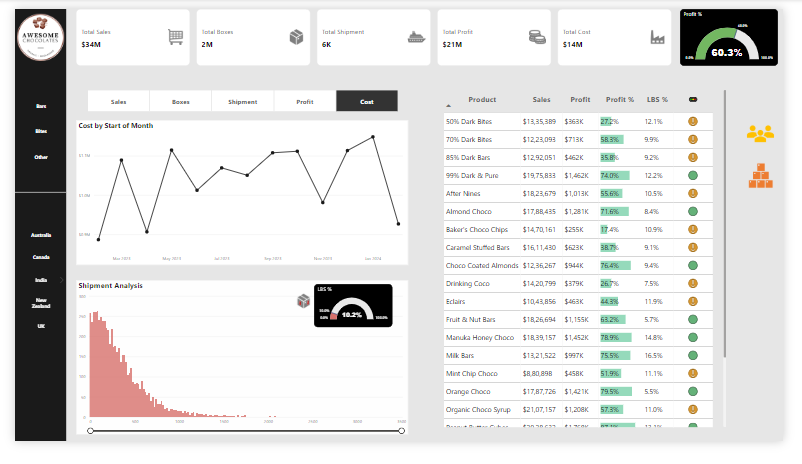

What the dashboard file says about the page in this screenshot:
{"tool":"powerbi","page":{"name":"Sales Dashboard","canvas":[1920,1080],"ordinal":2},"visuals":[{"type":"shape","box":[0,0,128,1080],"z":0},{"type":"cardVisual","fields":{"Data":["_Measures.Total Sales","_Measures.Total Boxes","_Measures.Total Shipment","_Measures.Total Profit","_Measures.Total Cost"]},"box":[153,0,1491.6,142.2],"z":1000},{"type":"gauge","fields":{"Y":["_Measures.Profit %"]},"box":[1662.7,0,244.6,142.2],"z":2000},{"type":"image","box":[0,0,127.7,142.2],"z":3000},{"type":"lineChart","fields":{"Y":["_Measures.Total Cost"],"Category":["calendar.Start of Month"]},"box":[153,278,831,363],"z":4000},{"type":"slicer","fields":{"Values":["Measure Selector.Measure Selector"]},"box":[153.2,193.6,831.9,72.3],"z":5000},{"type":"clusteredColumnChart","title":"Shipment Analysis","fields":{"Category":["shipments.Boxes (bins)"],"Y":["_Measures.Total Shipment"]},"box":[153,678,831,387],"z":6000},{"type":"gauge","fields":{"Y":["_Measures.LBS %"]},"box":[748,687,196,108],"z":7000},{"type":"image","box":[695,697,53,65],"z":8000},{"type":"tableEx","title":"Product Details","fields":{"Values":["products.Product","_Measures.Total Sales","_Measures.Total Profit","_Measures.Profit %","_Measures.LBS %","_Measures.Profit Target Indicator"]},"box":[1062.2,193.3,724.4,860],"z":10000},{"type":"image","title":"People icon","box":[1820,266.7,86.7,88.9],"z":11000},{"type":"image","title":"Product Icon","box":[1820,373.3,88.9,86.7],"z":12000},{"type":"slicer","fields":{"Values":["products.Category"]},"box":[0,204.7,128.2,202.4],"z":13000},{"type":"slicer","fields":{"Values":["locations.Geo"]},"box":[0,530.6,128.2,295.3],"z":14000},{"type":"shape","box":[0,423.5,128.2,71.8],"z":15000}]}

Visuals, with their boxes in screenshot pixels (x1, y1, x2, y2), scaled from the page's 1920x1080 canvas onto the 802x464 screenshot:
shape: (left=0, top=0, right=53, bottom=463)
cardVisual - _Measures.Total Sales x _Measures.Total Boxes: (left=64, top=0, right=687, bottom=61)
gauge - _Measures.Profit %: (left=695, top=0, right=797, bottom=61)
image: (left=0, top=0, right=53, bottom=61)
lineChart - _Measures.Total Cost x calendar.Start of Month: (left=64, top=119, right=411, bottom=275)
slicer - Measure Selector.Measure Selector: (left=64, top=83, right=411, bottom=114)
"Shipment Analysis" clusteredColumnChart: (left=64, top=291, right=411, bottom=458)
gauge - _Measures.LBS %: (left=312, top=295, right=394, bottom=342)
image: (left=290, top=299, right=312, bottom=327)
"Product Details" tableEx: (left=444, top=83, right=746, bottom=453)
"People icon" image: (left=760, top=115, right=796, bottom=153)
"Product Icon" image: (left=760, top=160, right=797, bottom=198)
slicer - products.Category: (left=0, top=88, right=54, bottom=175)
slicer - locations.Geo: (left=0, top=228, right=54, bottom=355)
shape: (left=0, top=182, right=54, bottom=213)
